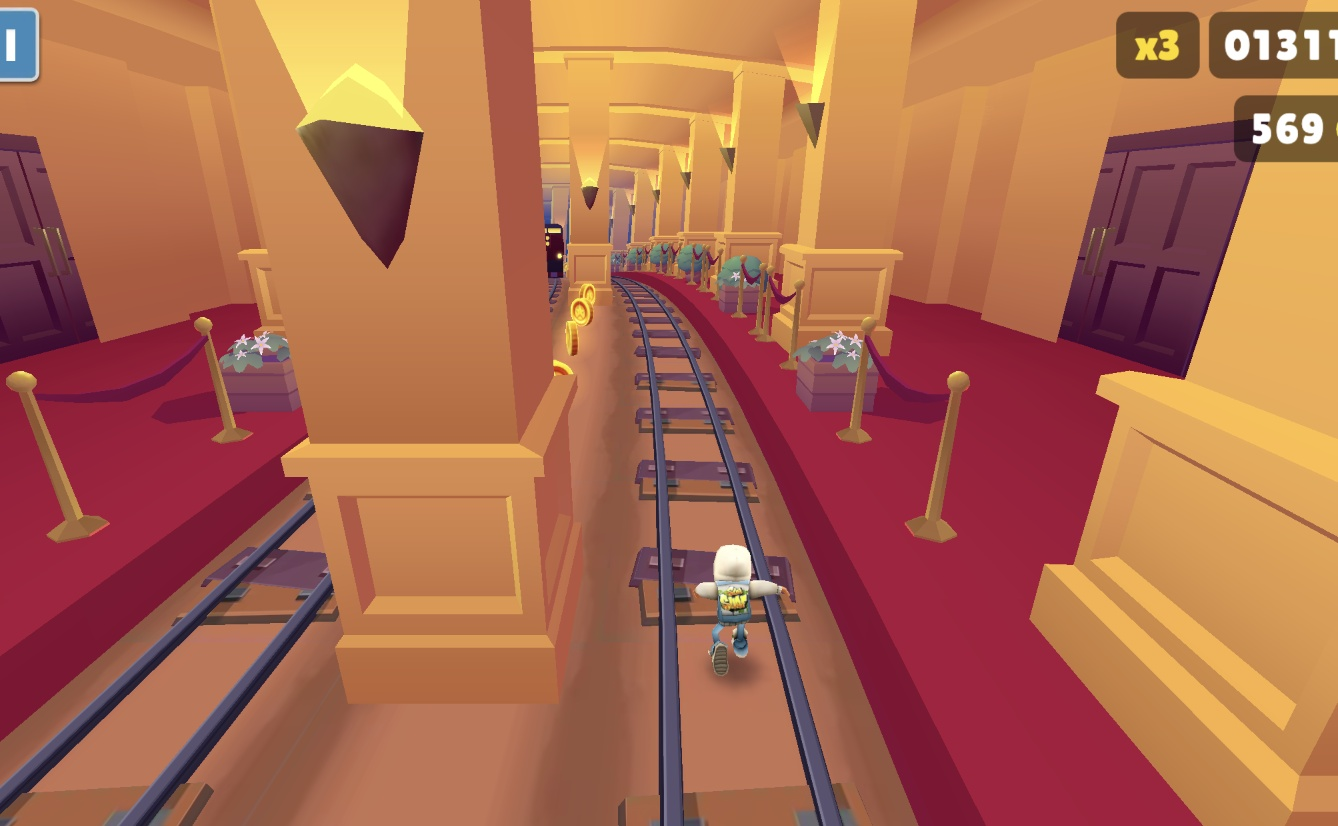pillar: (202, 0, 554, 719), (562, 157, 592, 309)
train: (547, 225, 572, 292)
